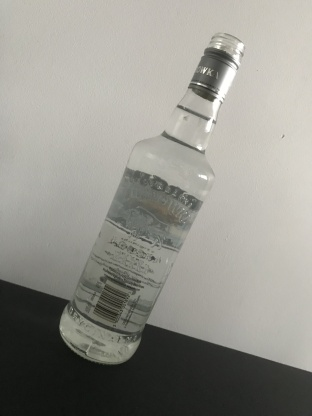nakretka: (186, 29, 246, 105)
